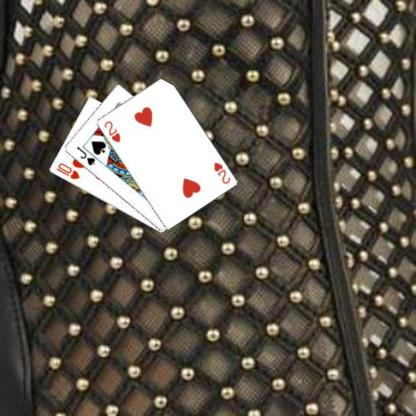10H: (54, 161, 81, 180)
2H: (101, 118, 121, 144), (211, 160, 231, 186)
JS: (74, 144, 96, 167)
